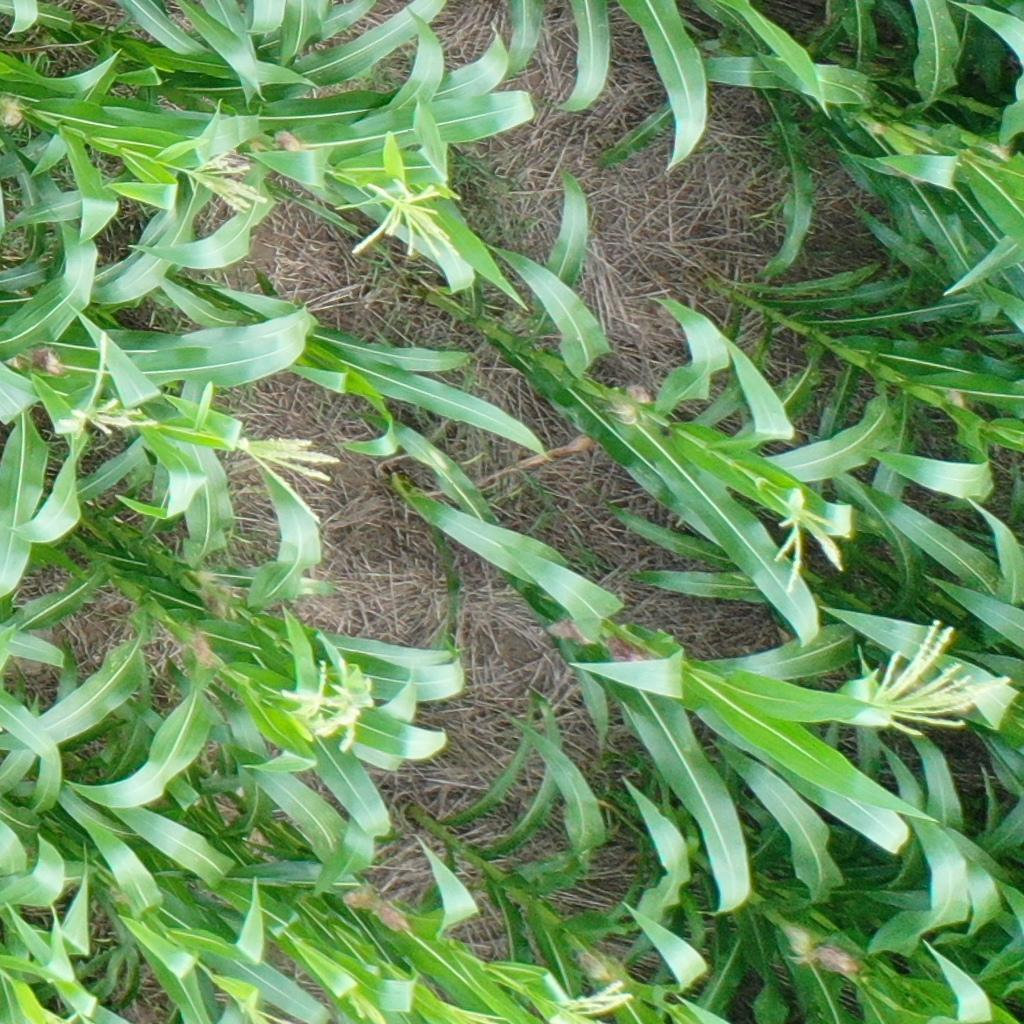Tassel: (865, 621, 1011, 740), (59, 331, 157, 437), (350, 179, 466, 264), (237, 435, 340, 524), (280, 661, 373, 753), (773, 505, 843, 593), (184, 151, 270, 218), (554, 977, 632, 1015), (345, 993, 387, 1024), (444, 1003, 506, 1024), (245, 1004, 292, 1024), (39, 1009, 72, 1024)
